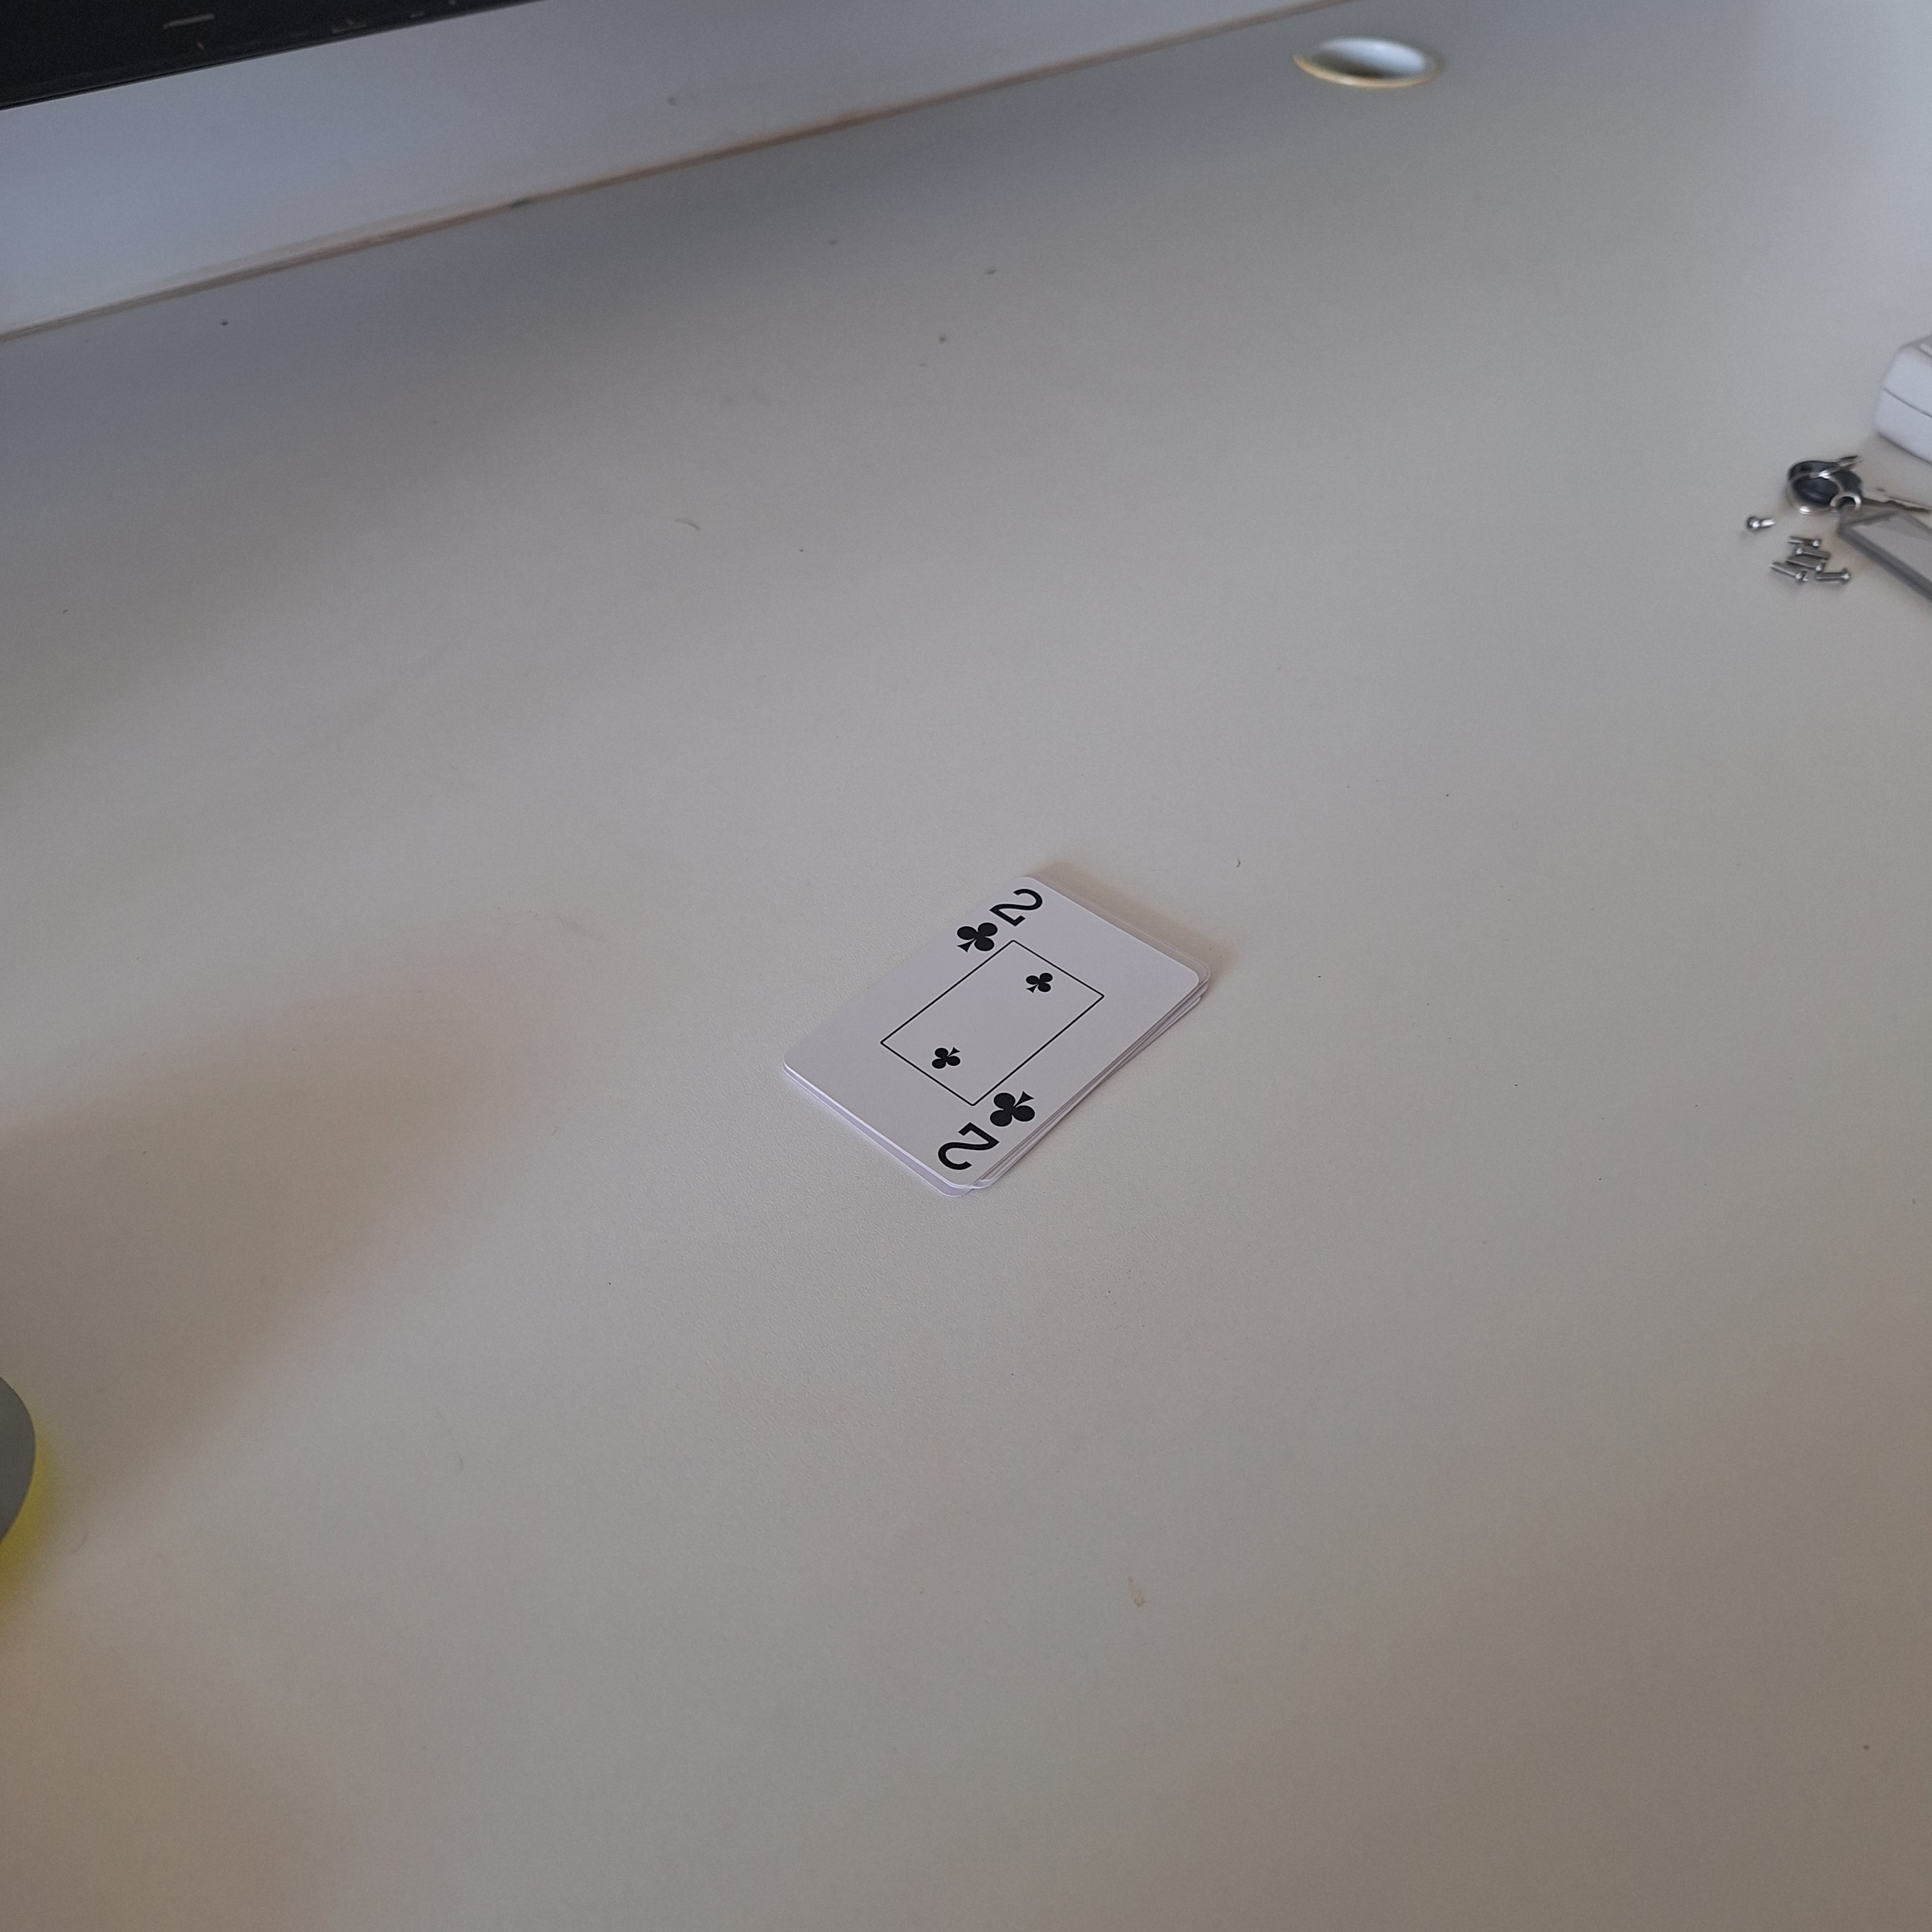2P: (934, 1081, 1039, 1178), (950, 881, 1049, 961)
